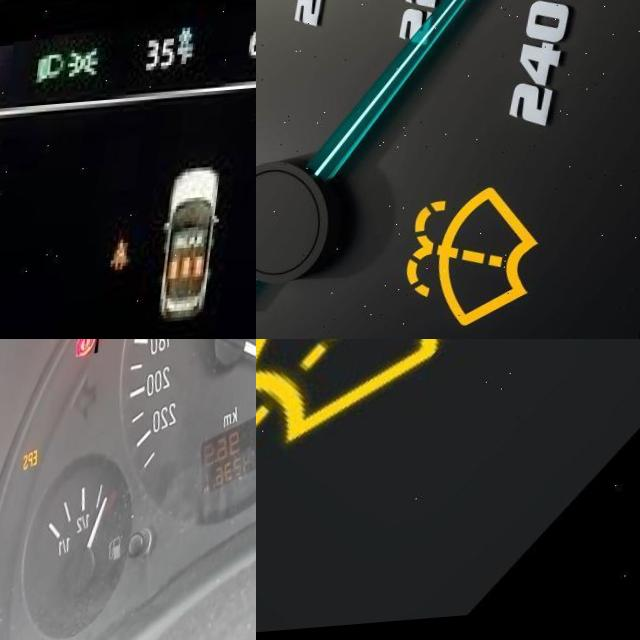Seat Belt: (118, 242, 142, 279)
Washer Fluid: (256, 339, 511, 446), (409, 188, 551, 339)
